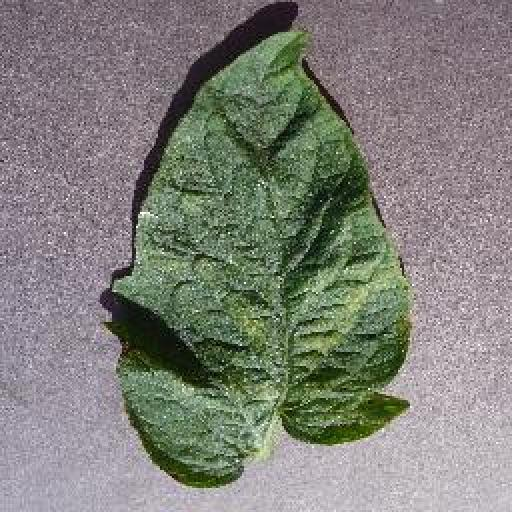Spider Mites: (107, 30, 412, 490)
